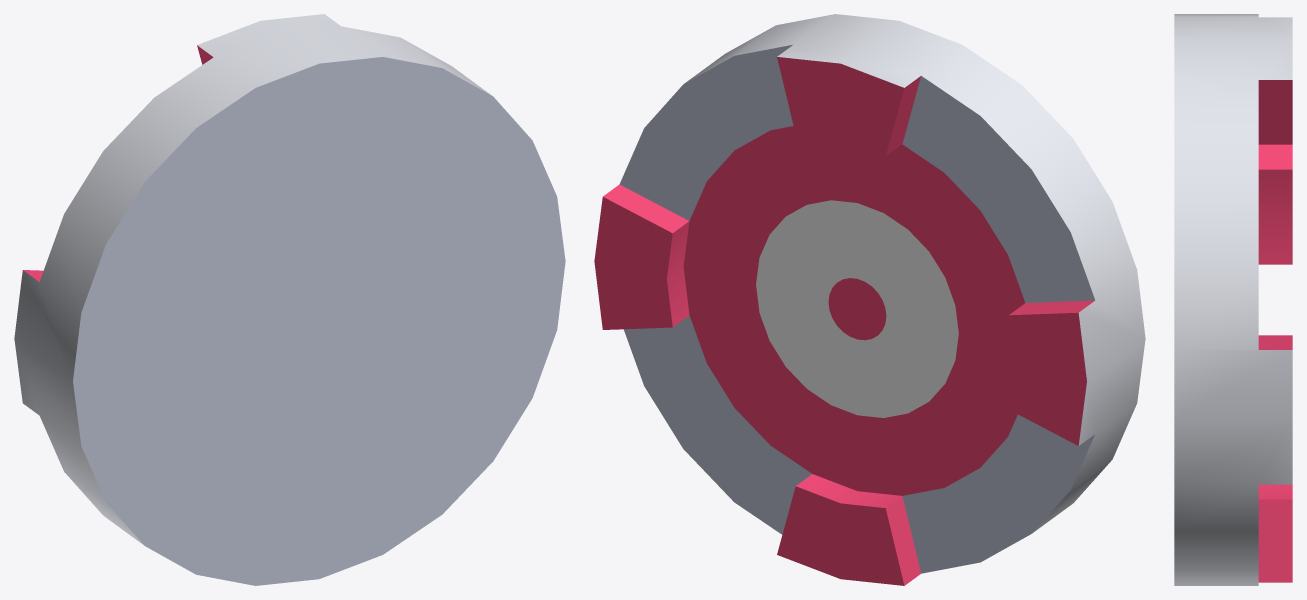
File: target.glb
The picture shows the model from 3 angles, left to right: view 1: azimuth 30°, elevation 25°; view 2: azimuth 150°, elevation 25°; view 3: azimuth 270°, elevation 25°; orthographic projection.
Visible parts, largest first — view 1: targetB; view 2: targetB; view 3: targetB.
Part boxes in pixels (left/top/right/bottom): targetB: left=14, top=14, right=565, bottom=585; targetB: left=594, top=14, right=1145, bottom=585; targetB: left=1174, top=14, right=1292, bottom=585.
Size of the model in its own units: 1.36 by 1.36 by 0.28.
